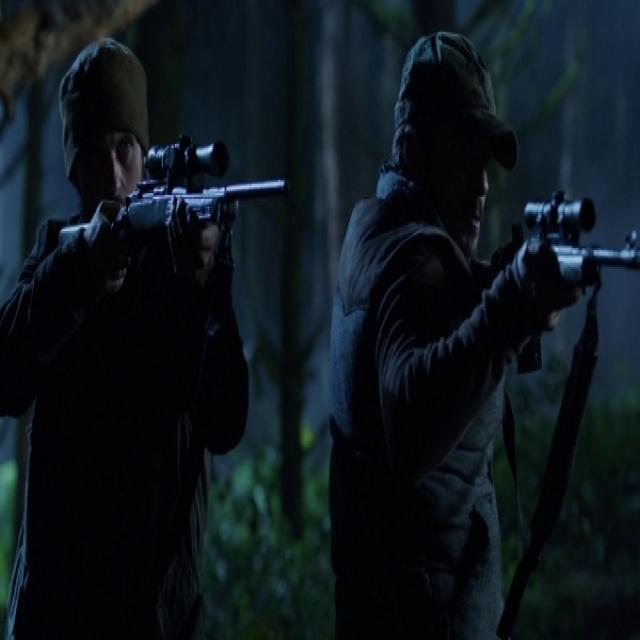rifle: (59, 139, 294, 267), (521, 191, 640, 321)
